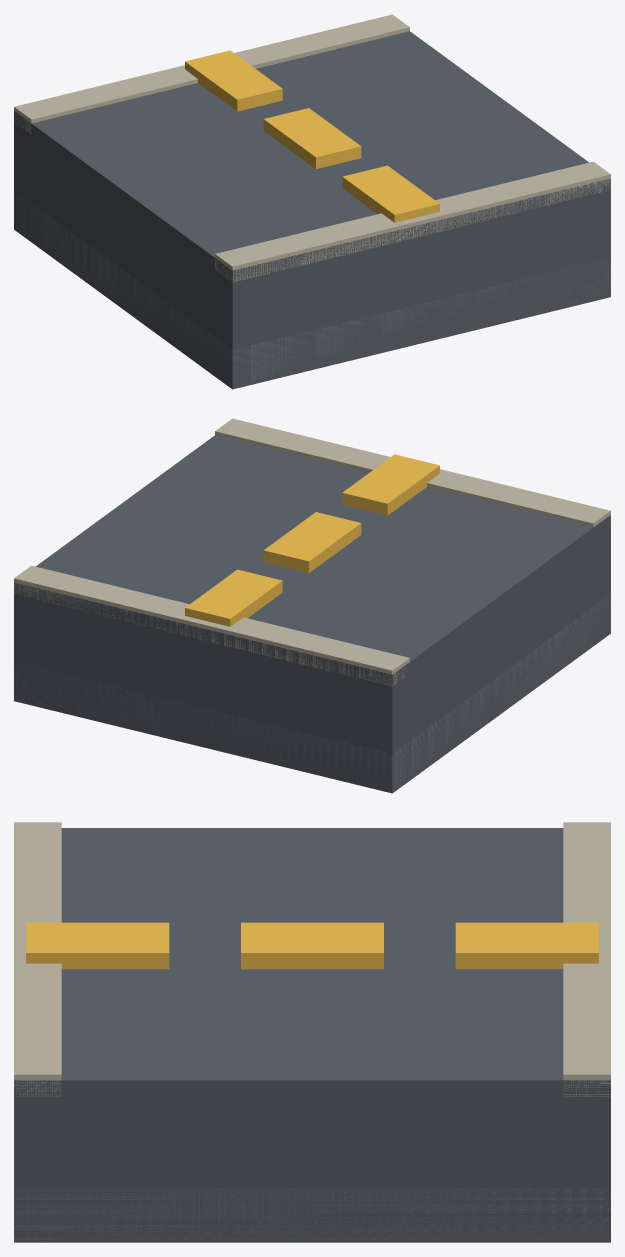
The model's file is scene__roadTile.glb.
3 views of the same model, one above another, from view 1: azimuth 30°, elevation 25°; view 2: azimuth 150°, elevation 25°; view 3: azimuth 270°, elevation 25° (orthographic). The views are drawn at different scales.
Bounding box in the file's own units: 1 × 0.33 × 1.
